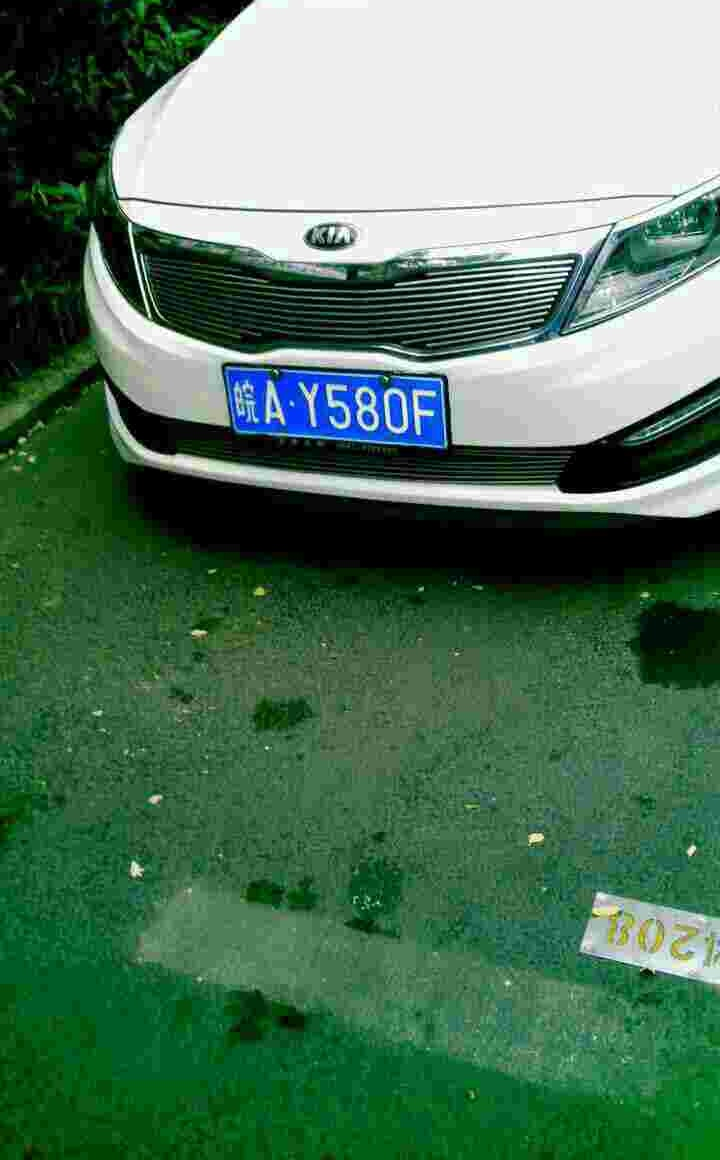plate: (224, 361, 451, 452)
